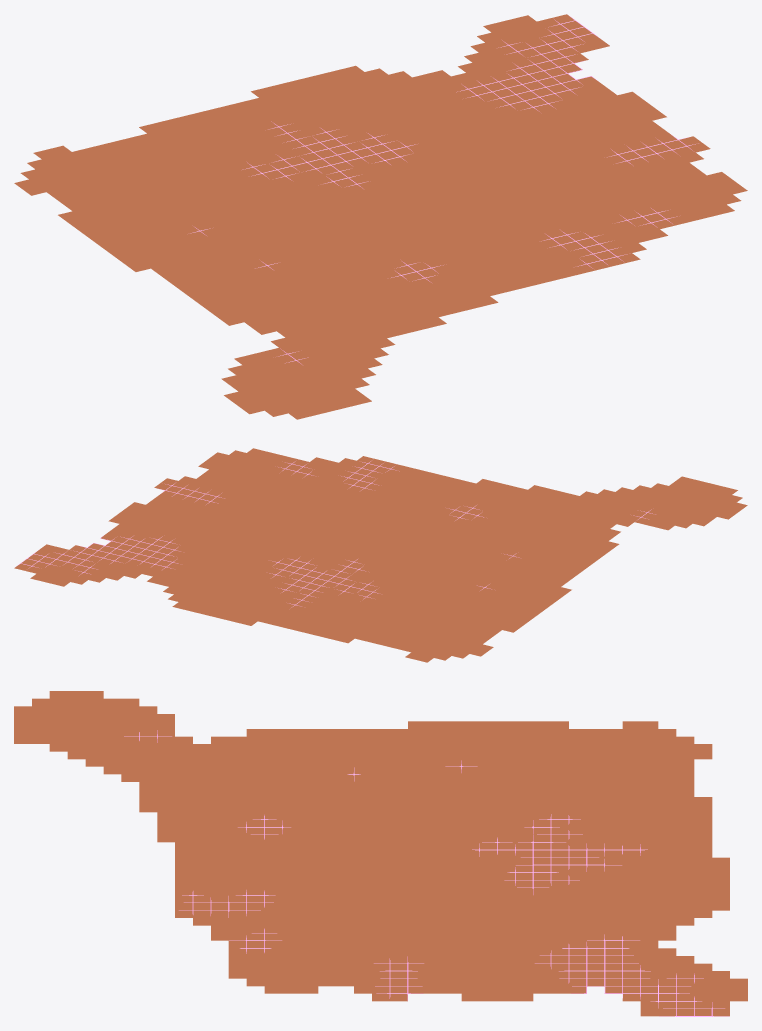
File: Arena V02_Floor.fbx
The picture shows the model from 3 angles, top to bottom: view 1: azimuth 30°, elevation 25°; view 2: azimuth 150°, elevation 25°; view 3: azimuth 270°, elevation 25°; orthographic projection. The views are drawn at different scales.
Parts seen in each view (by area): view 1: Arena_V02_Floor; view 2: Arena_V02_Floor; view 3: Arena_V02_Floor.
Boxes of the visible parts, bbox=[...] form: Arena_V02_Floor: bbox=[14, 14, 747, 419]; Arena_V02_Floor: bbox=[14, 448, 747, 662]; Arena_V02_Floor: bbox=[14, 691, 747, 1016].
Size of the model in its own units: 14470 by 14.6 by 13797.
